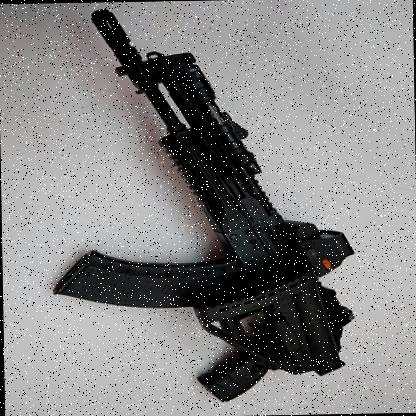rifle: (33, 3, 382, 395)
